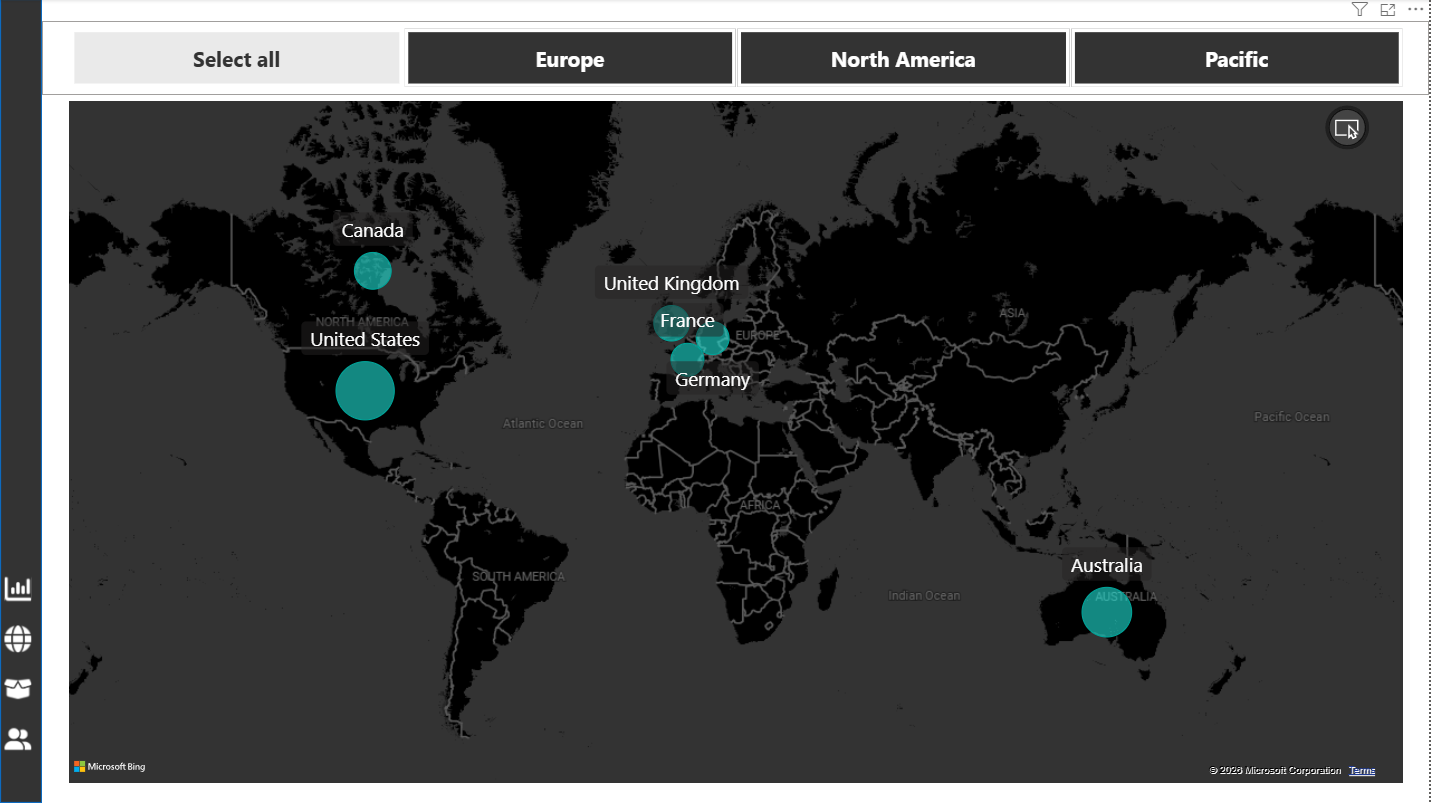

The page's visual inventory and layout, read from the dashboard file:
{"tool":"powerbi","page":{"name":"Map","canvas":[1280,720],"ordinal":1},"visuals":[{"type":"shape","box":[0,0,37.6,720],"z":0},{"type":"map","fields":{"Category":["Territory Lookup.Country"],"Size":["Measure Table.Total Orders"]},"box":[56.4,86,1205.4,620.6],"z":1000},{"type":"slicer","fields":{"Values":["Territory Lookup.Continent"]},"box":[37.6,19.7,1242.1,66.3],"z":2000},{"type":"actionButton","box":[0,512.2,37.6,32.2],"z":3000},{"type":"actionButton","box":[0,557,37.6,32.2],"z":4000},{"type":"actionButton","box":[0,601.8,37.6,32.2],"z":5000},{"type":"actionButton","box":[0,646.6,37.6,32.2],"z":6000}]}

Visuals, with their boxes in screenshot pixels (x1, y1, x2, y2):
shape: BBox(0, 4, 41, 794)
map - Territory Lookup.Country x Measure Table.Total Orders: BBox(62, 98, 1385, 779)
slicer - Territory Lookup.Continent: BBox(41, 25, 1404, 98)
actionButton: BBox(0, 566, 41, 601)
actionButton: BBox(0, 615, 41, 650)
actionButton: BBox(0, 664, 41, 699)
actionButton: BBox(0, 713, 41, 749)
